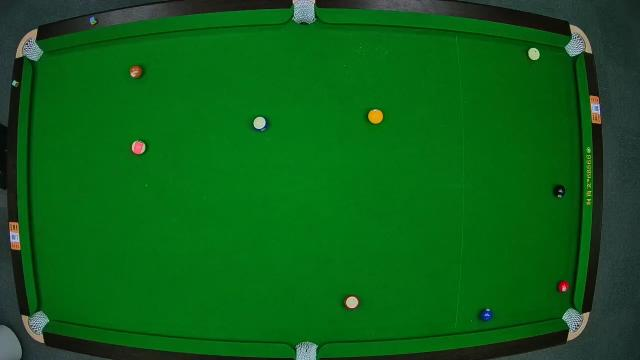bag1: (19, 36, 45, 64)
bag2: (292, 0, 316, 26)
bag3: (563, 30, 589, 57)
bag4: (25, 309, 51, 339)
bag5: (294, 340, 318, 360)
ball0: (526, 46, 542, 62)
ball1: (366, 109, 384, 125)
ball10: (252, 114, 268, 134)
ball11: (344, 296, 360, 310)
ball12: (131, 139, 147, 155)
ball2: (480, 308, 492, 322)
ball3: (556, 278, 572, 296)
ball7: (130, 64, 142, 80)
ball8: (552, 184, 568, 198)
